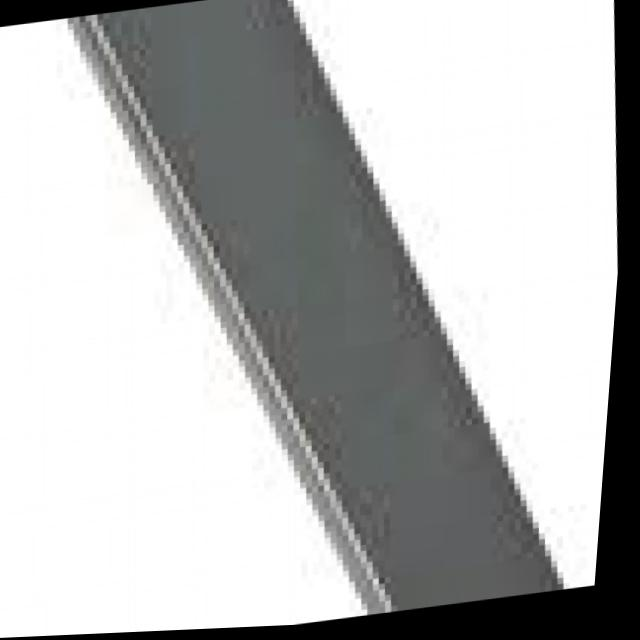metal-plates: (52, 1, 570, 621)
